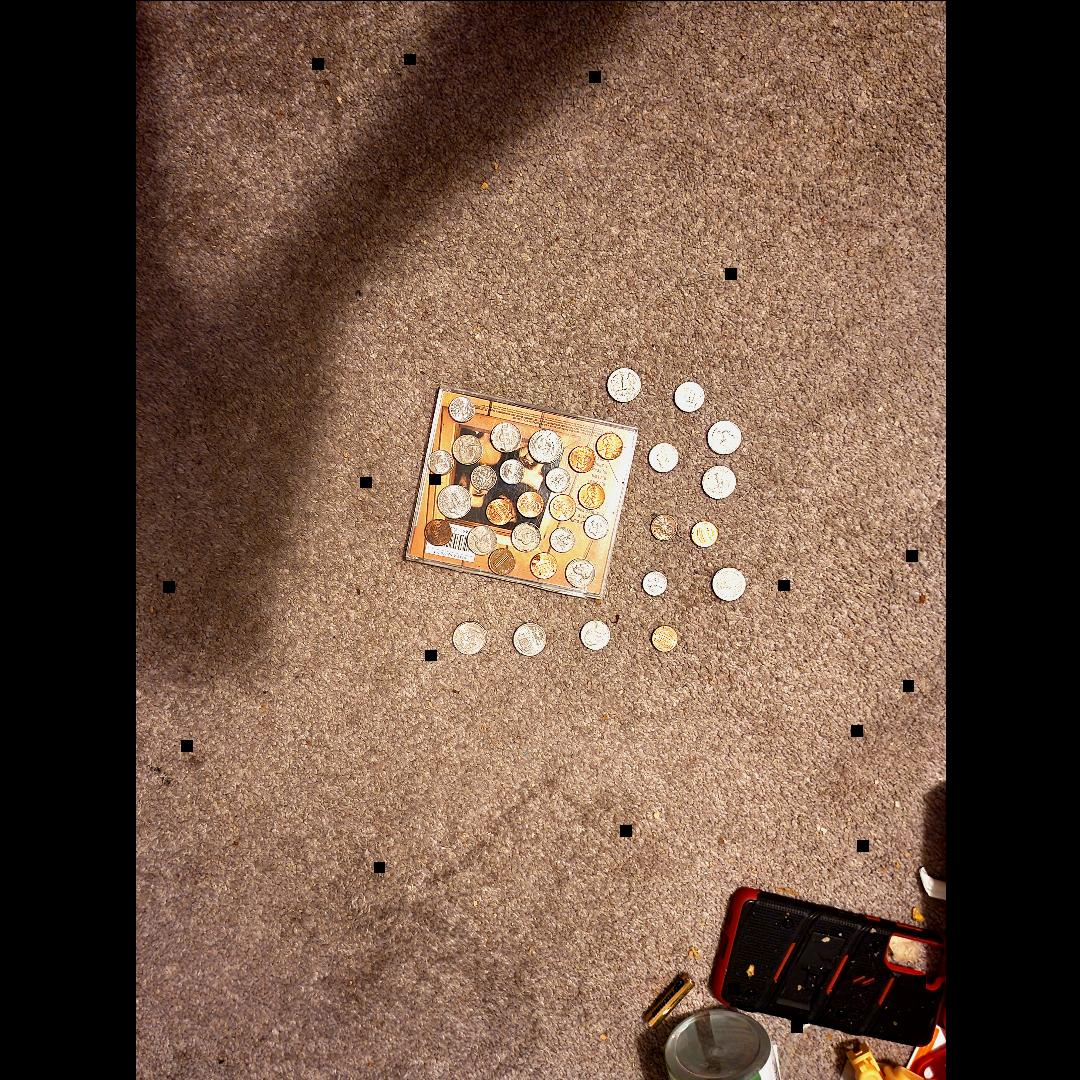Dime: (448, 397, 475, 423), (641, 570, 667, 596), (470, 464, 496, 490), (427, 449, 453, 475), (544, 466, 568, 492), (584, 513, 608, 539), (549, 528, 573, 552), (499, 458, 523, 482)
Nickel: (579, 618, 609, 650), (674, 380, 704, 411), (564, 557, 594, 588), (490, 422, 520, 452), (647, 442, 677, 472), (510, 522, 540, 552), (451, 433, 480, 463), (466, 525, 496, 553)
Penny: (486, 496, 512, 526), (516, 489, 542, 517), (690, 520, 716, 548), (650, 512, 676, 540), (547, 494, 575, 520), (596, 432, 622, 460), (423, 518, 451, 544), (650, 625, 676, 652), (579, 482, 605, 508), (568, 445, 594, 471), (530, 552, 556, 578), (488, 550, 514, 574)
Quarter: (706, 418, 742, 454), (711, 566, 745, 602), (606, 368, 640, 402), (701, 465, 735, 499), (436, 484, 470, 518), (452, 620, 484, 654), (512, 622, 544, 654), (528, 430, 560, 462)
